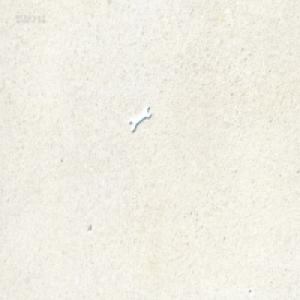Wrench: (128, 105, 150, 133)
